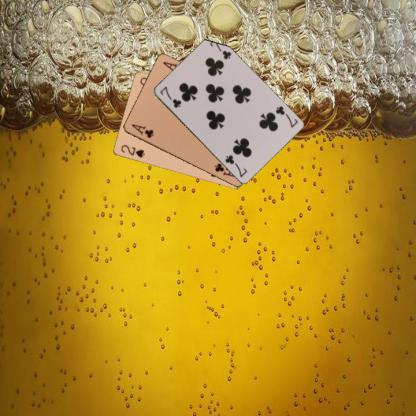2s: (118, 142, 145, 159)
7c: (272, 103, 298, 129), (157, 84, 182, 109)
Ac: (129, 122, 155, 140)
